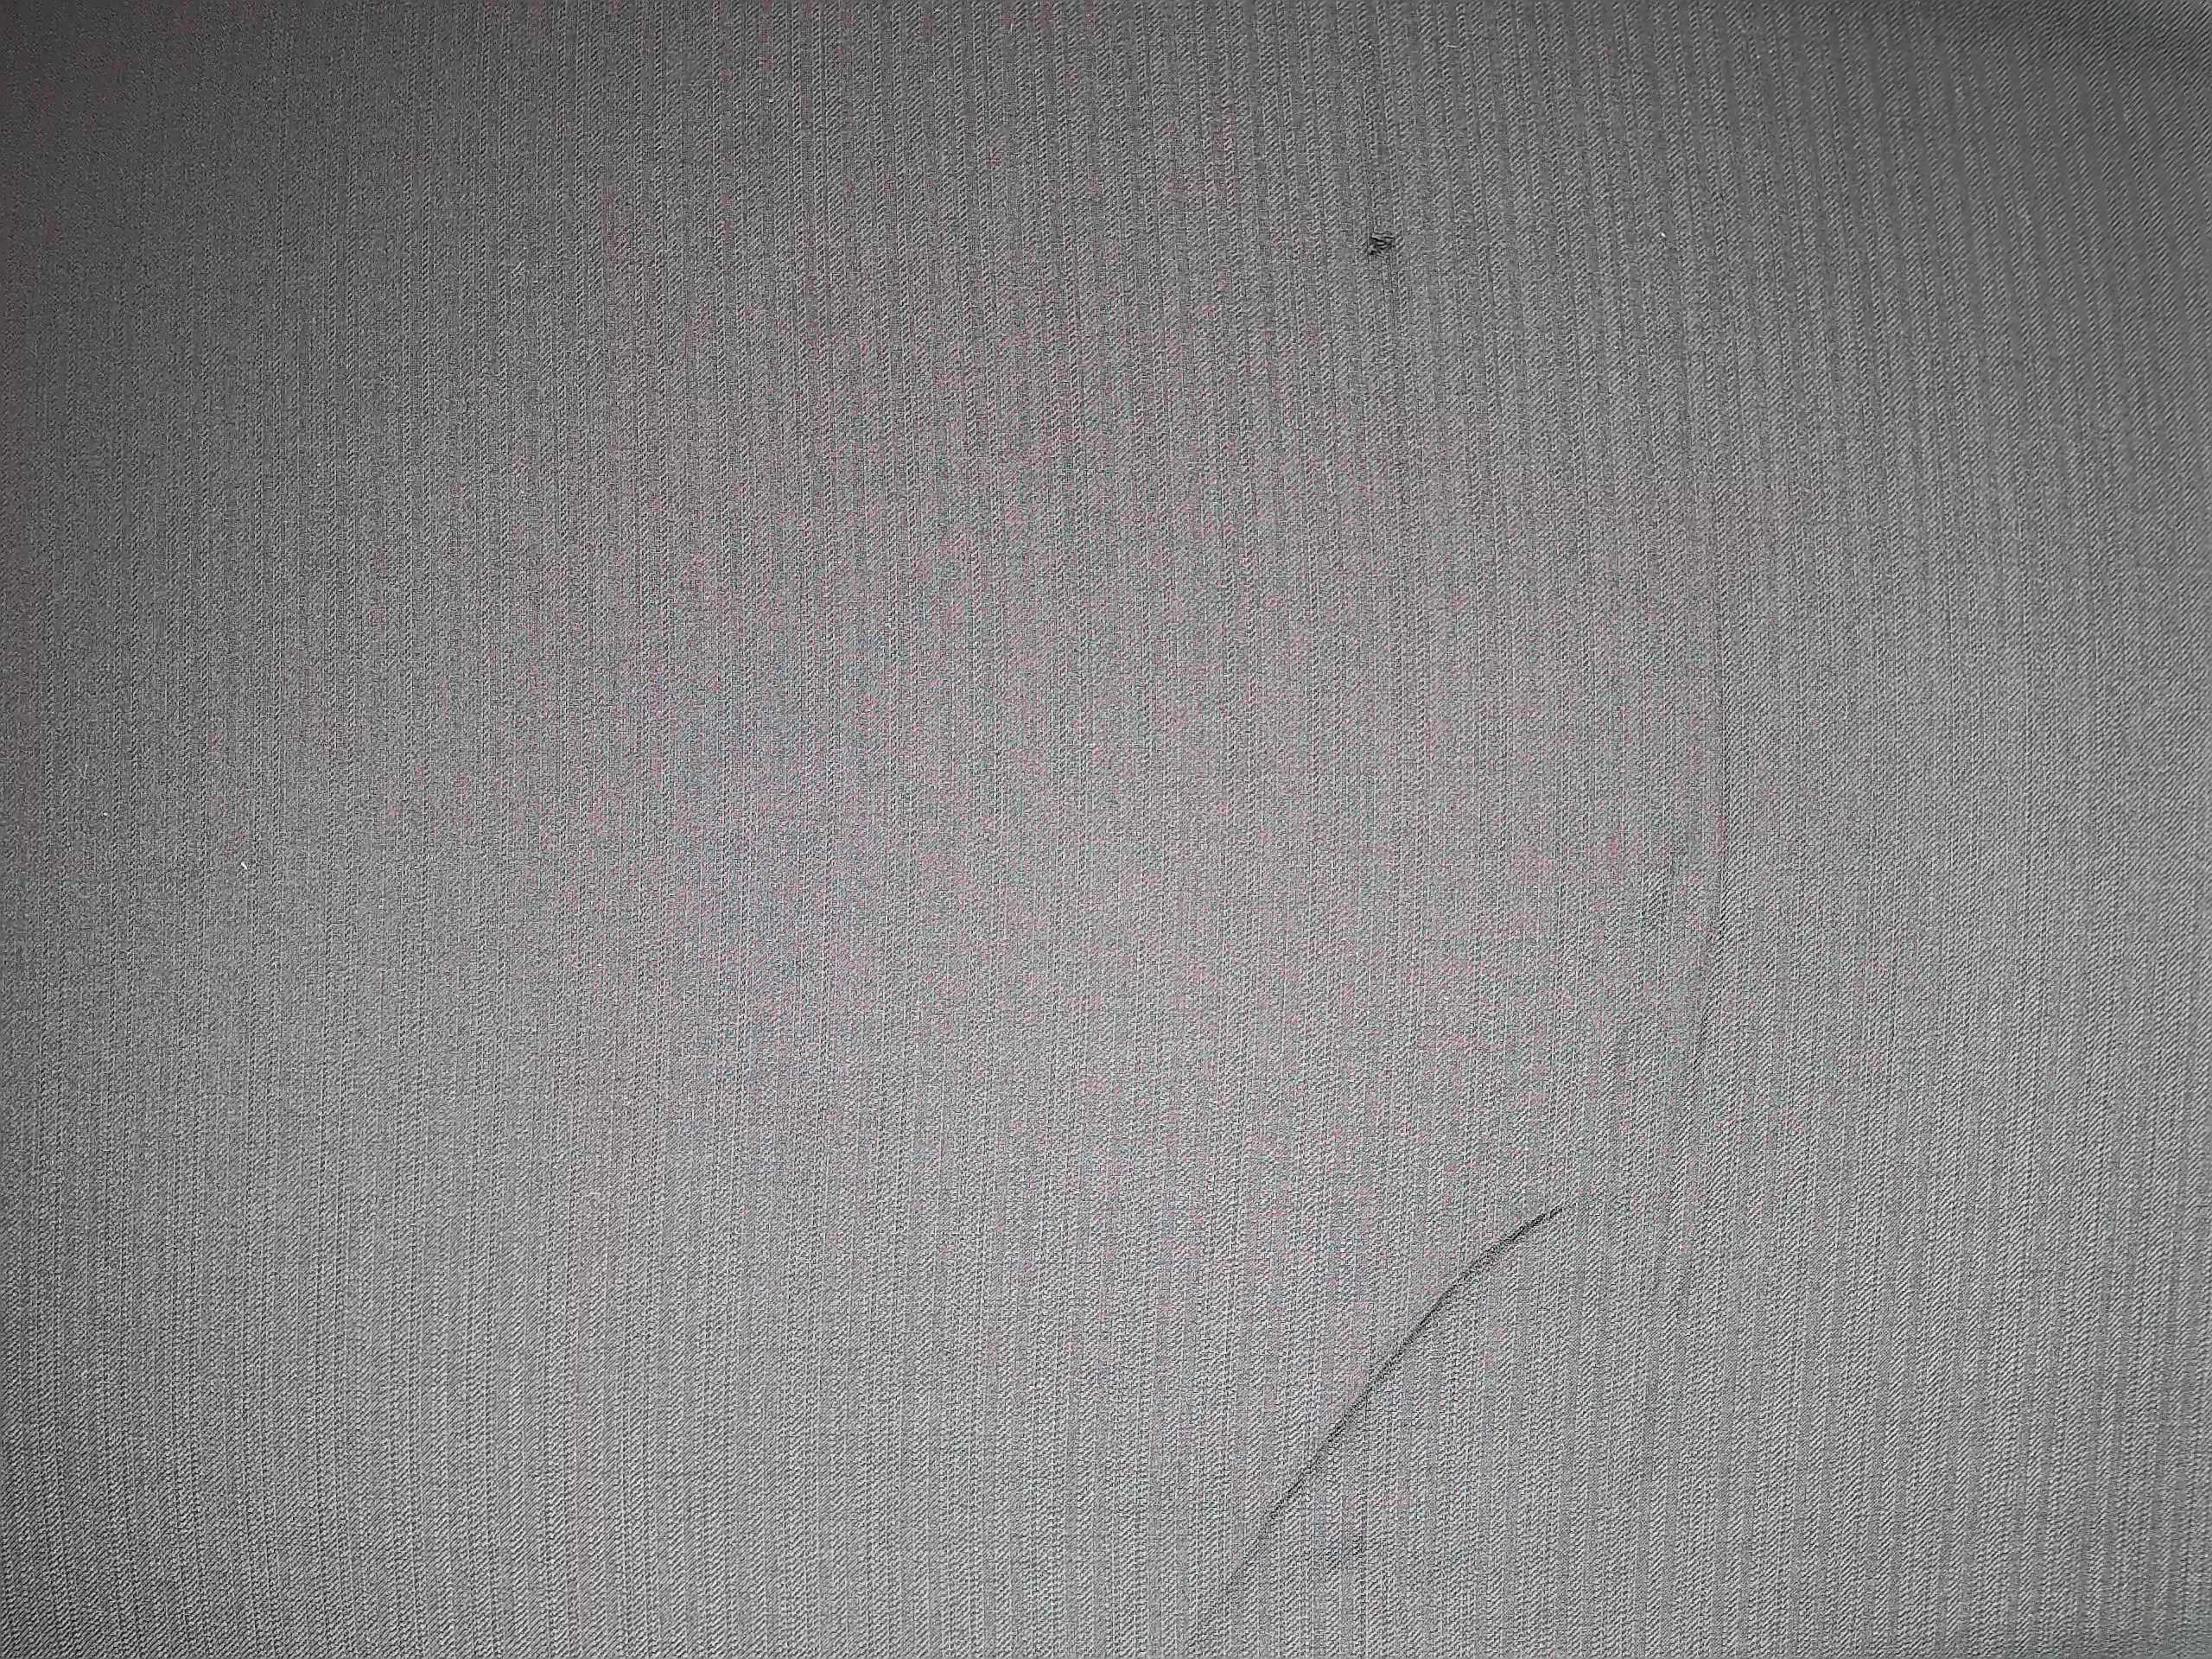hanging-warp: (1352, 166, 1414, 328)
